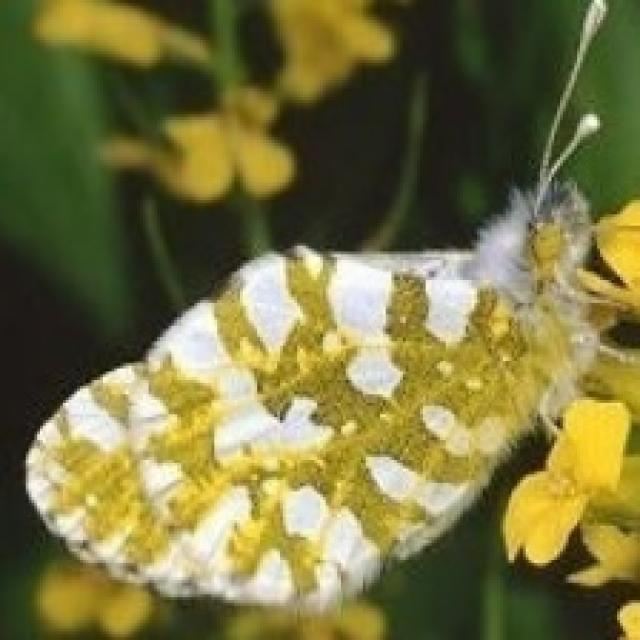butterfly: (23, 0, 637, 617)
